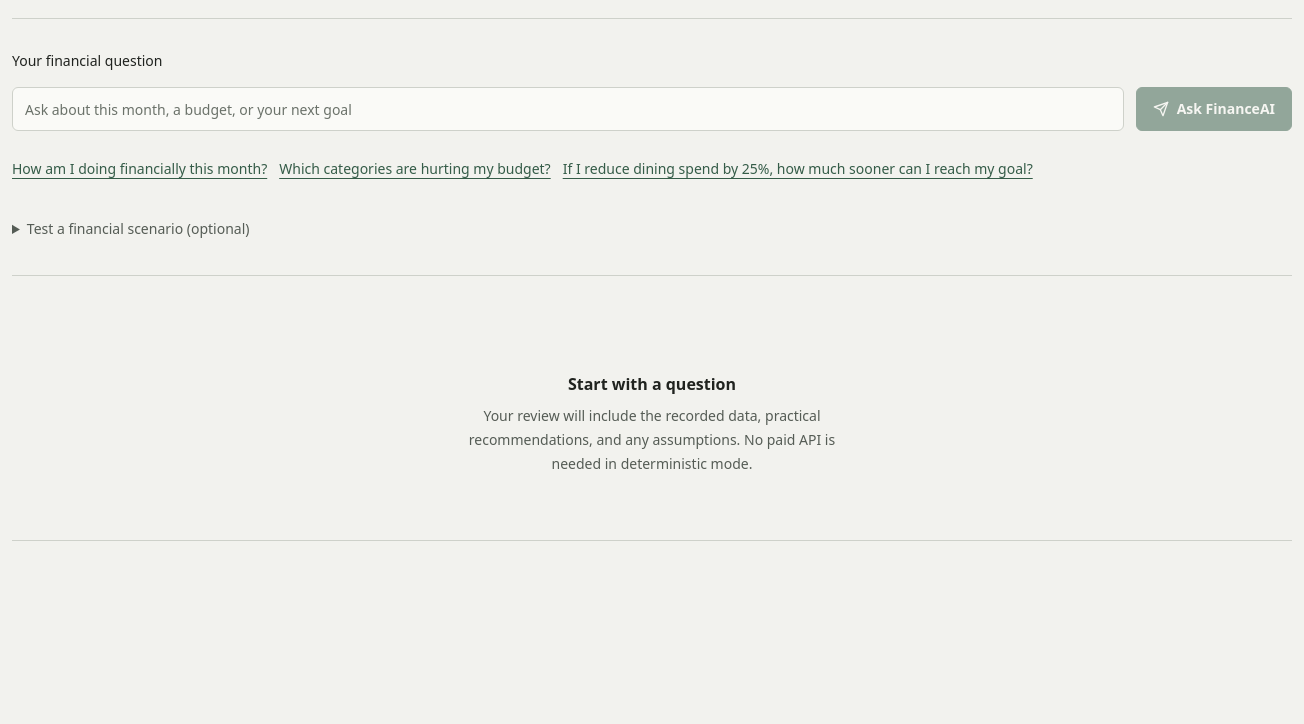
Finance Advisor workspace › sends explicit simulation parameters and displays deterministic impact
Click the heading "Test a financial scenario (optional)".
click(138, 228)  # box 27,219 -> 250,238
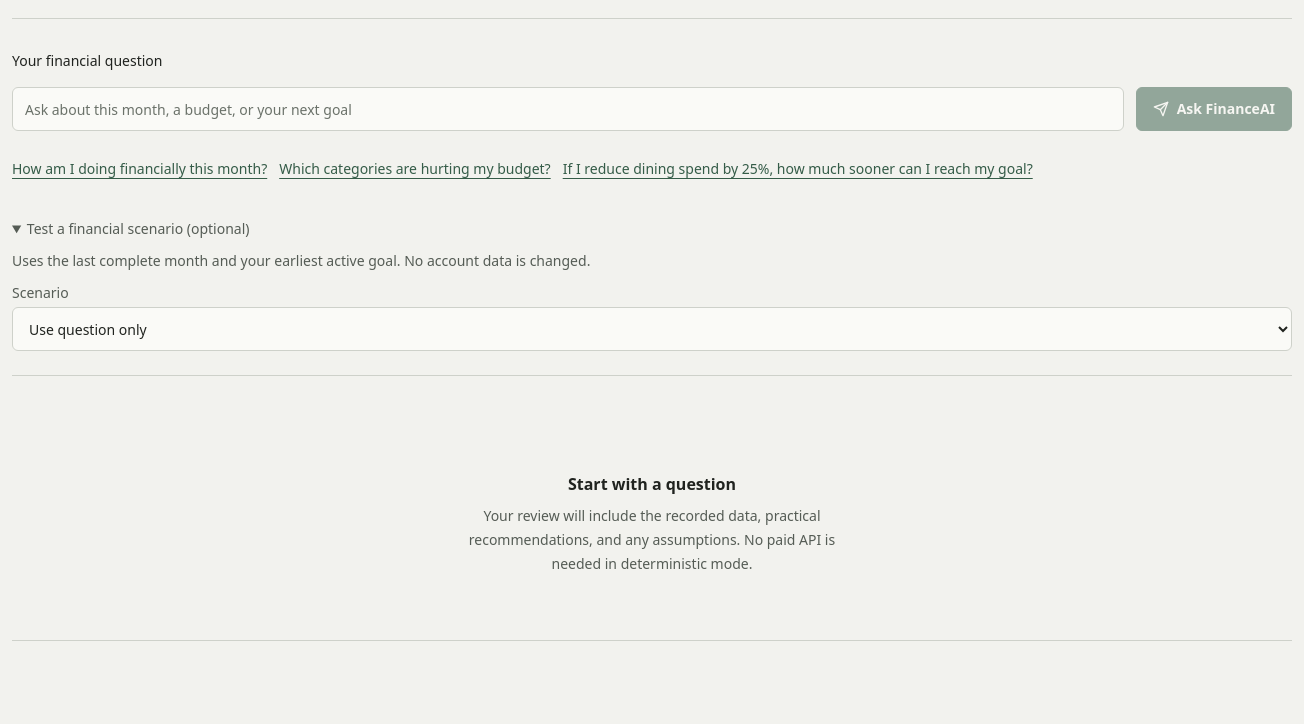
Select "Reduce dining spending" in the dropdown labelled "Scenario" at (652, 329), box 12,307 -> 1292,351
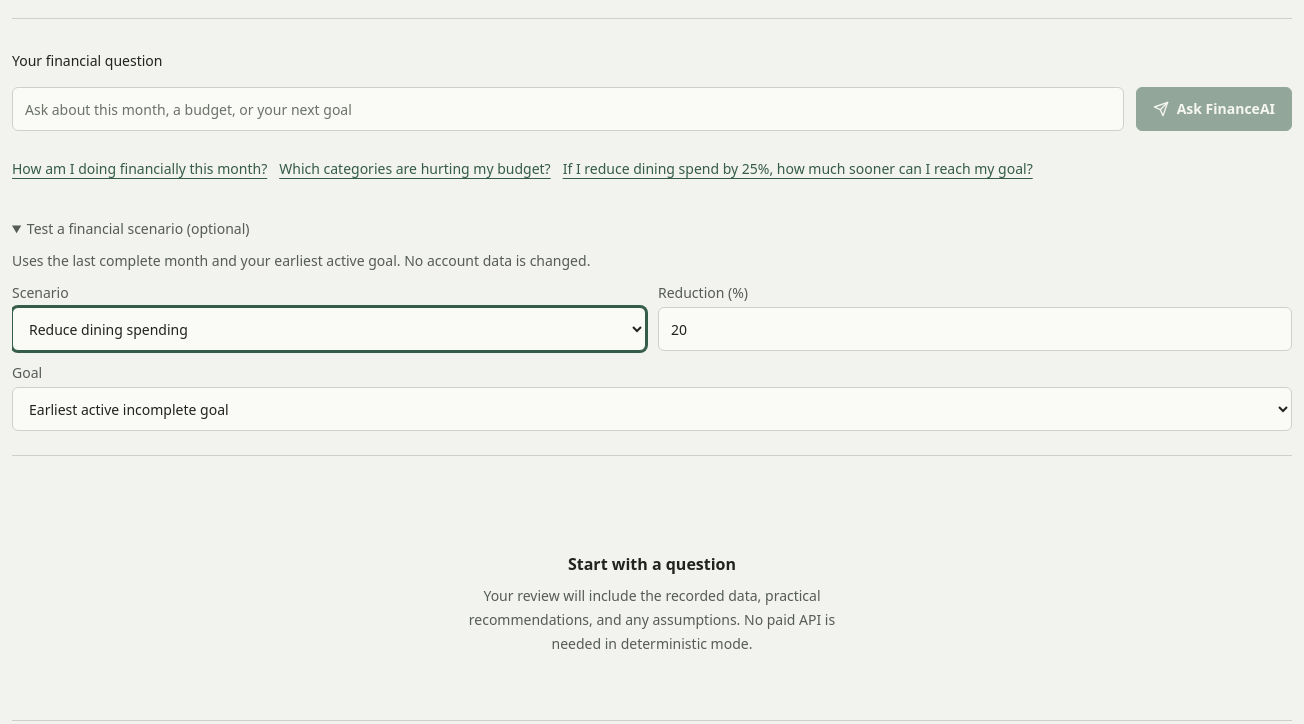
Replace the text in the number field named "Scenario value" with "25" at (975, 329), box 658,307 -> 1292,351
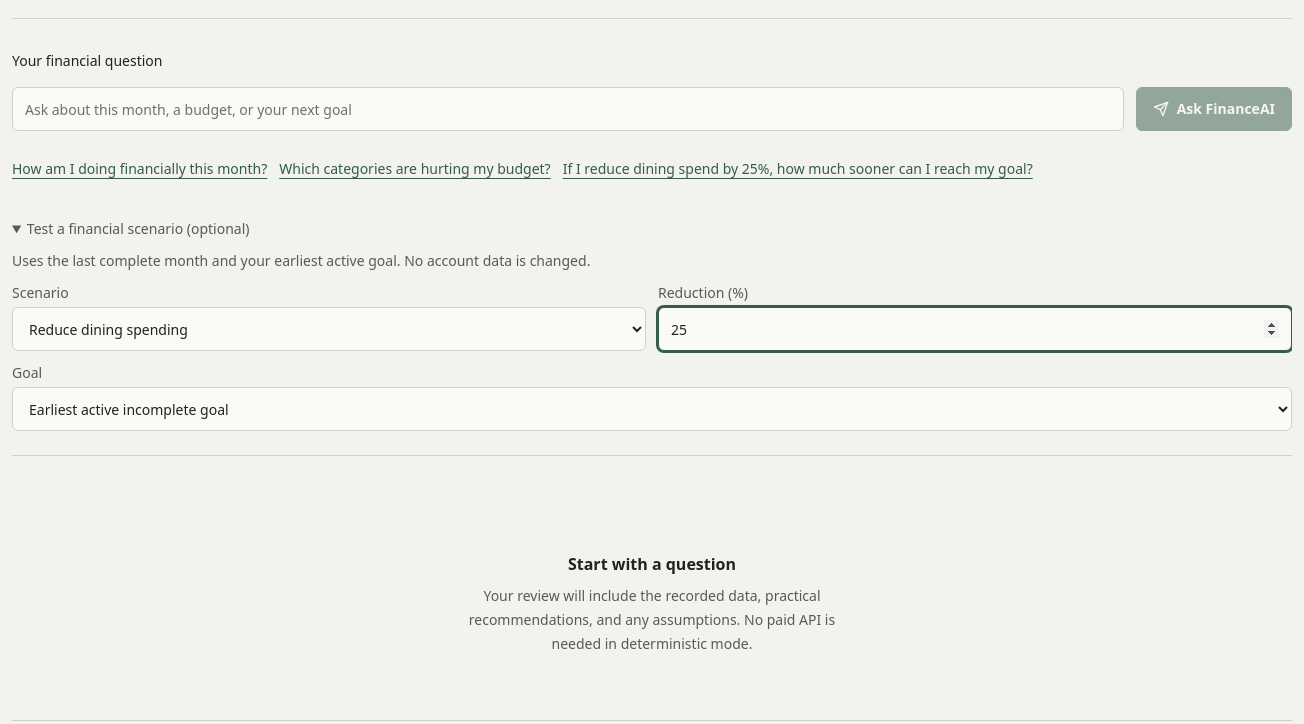
Type "Review this scenario" into the field labelled "Your financial question".
click(568, 109); type("Review this scenario")  # box 12,87 -> 1124,131
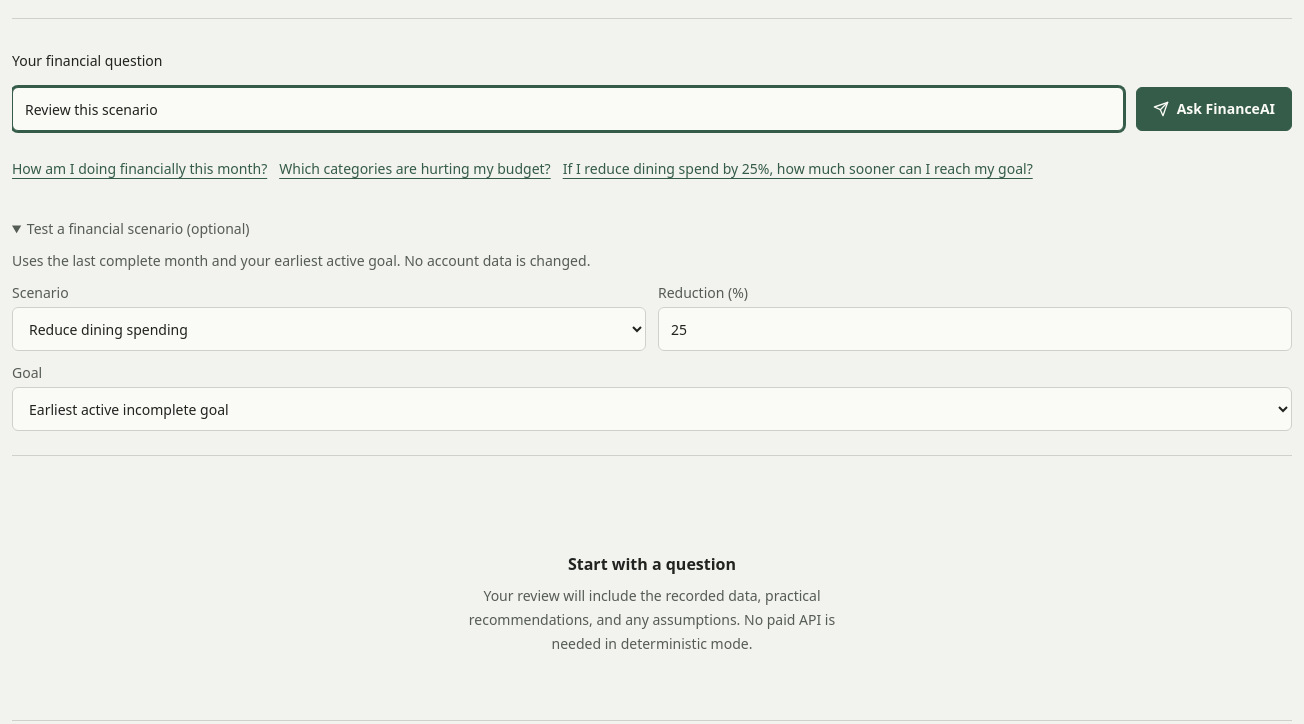
Click the button "Ask FinanceAI".
click(1214, 109)  # box 1136,87 -> 1292,131
(page scrolled)
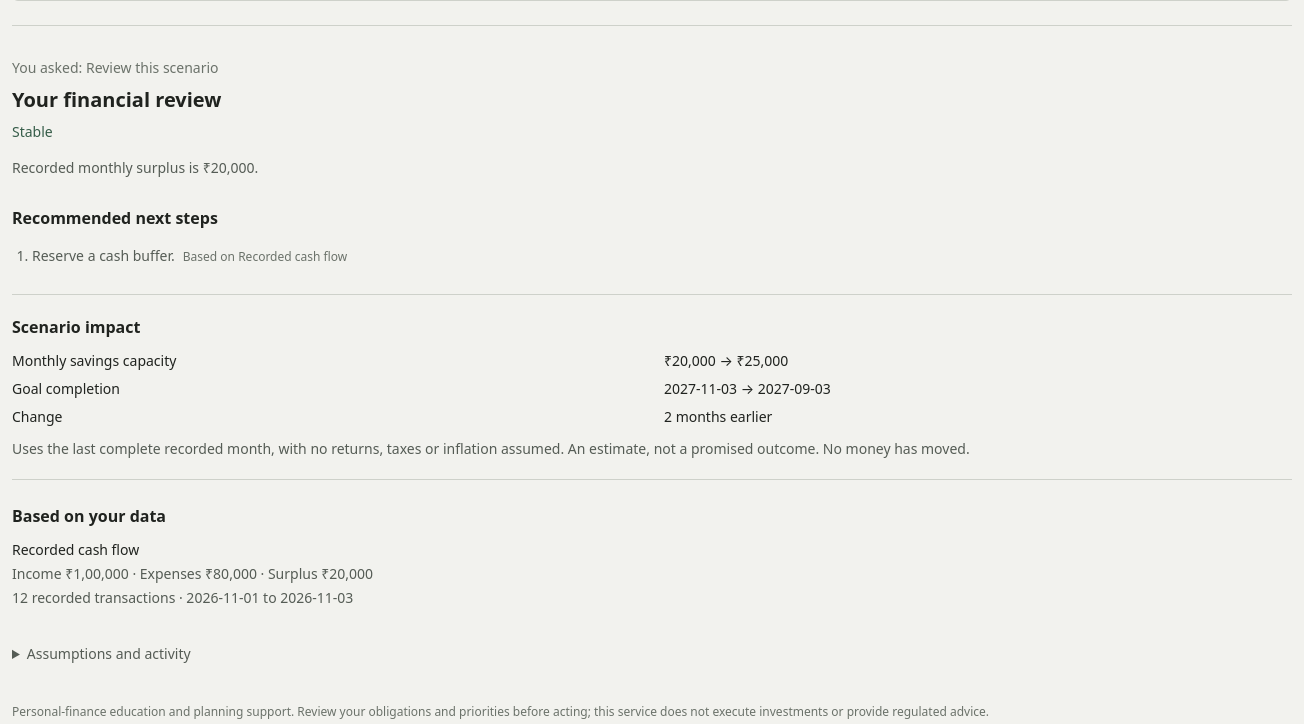
Expected: the text "2 months earlier" is shown, 664,407 -> 772,426
Expected: the text "No money has moved" is shown, 12,439 -> 970,458
